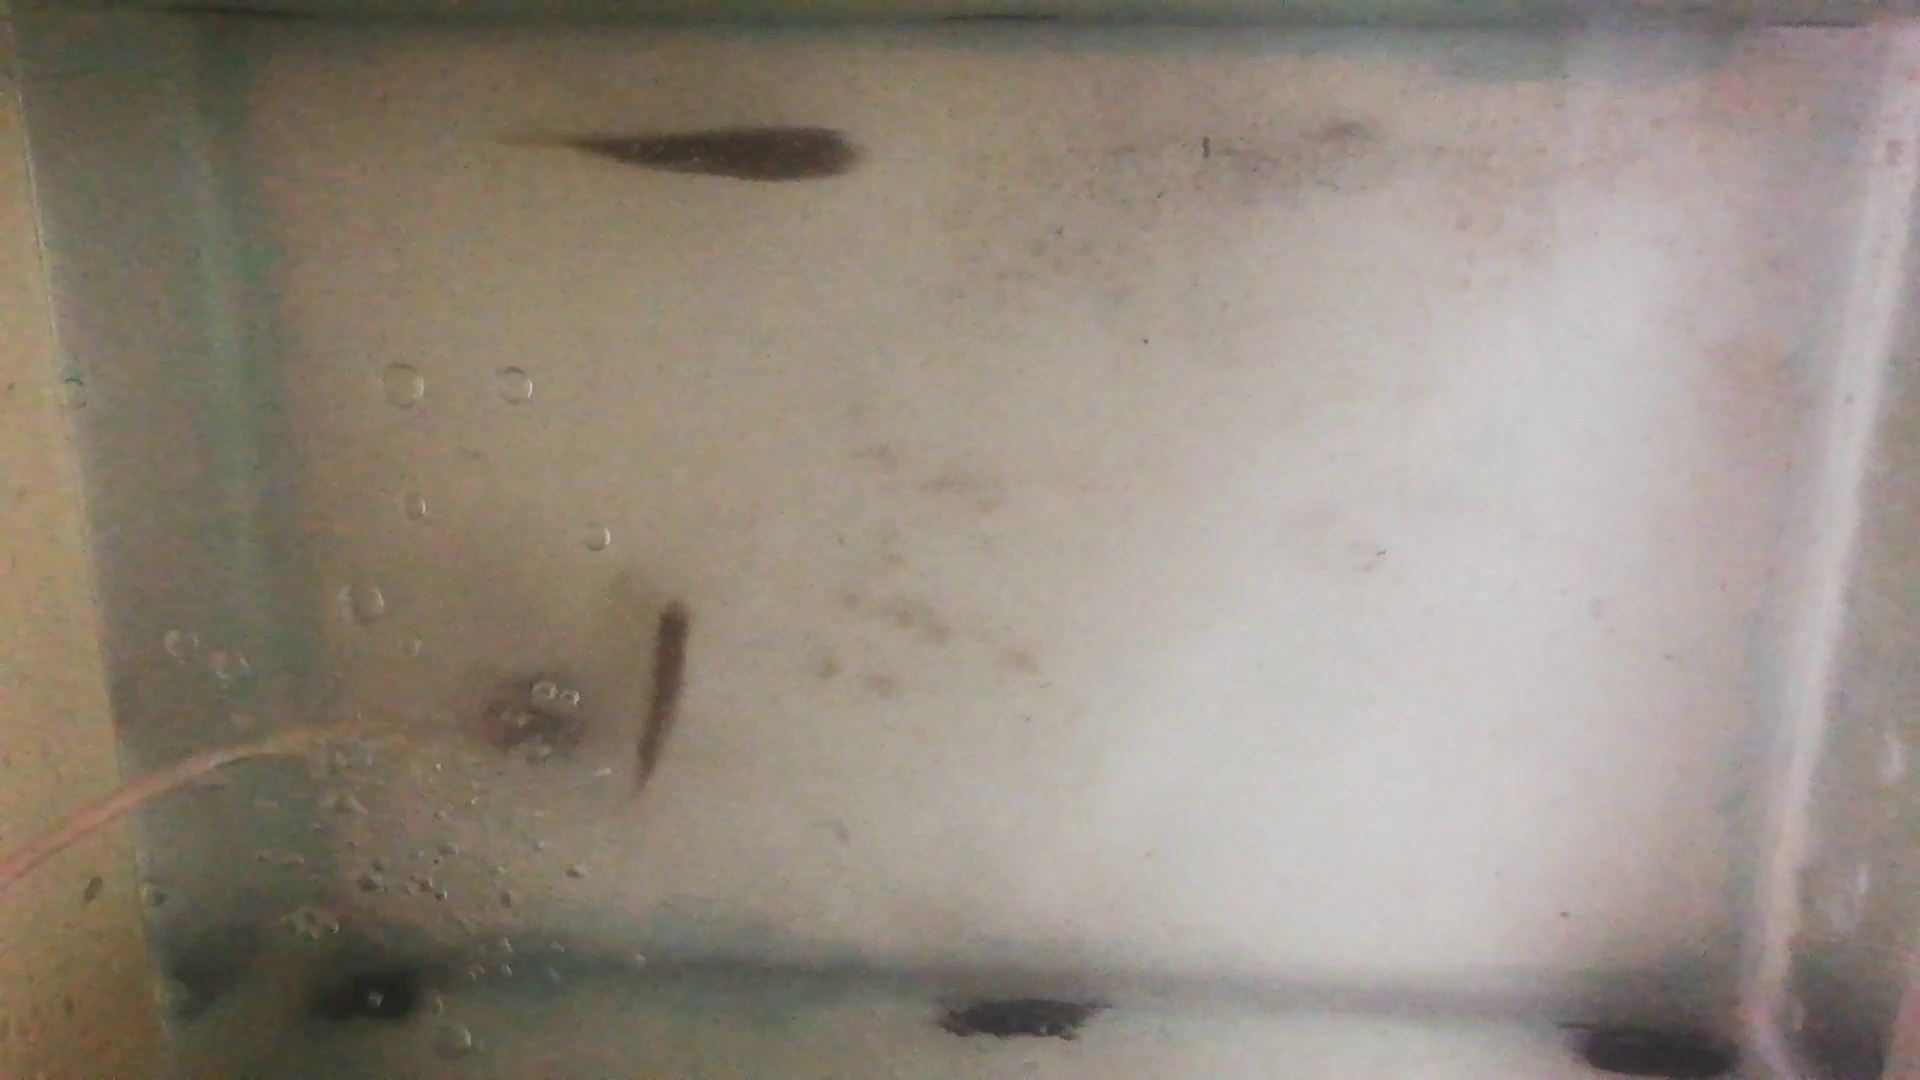fish: (566, 124, 862, 185), (633, 597, 695, 781)
